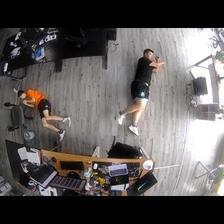fall: (114, 48, 164, 133), (18, 88, 76, 140)
